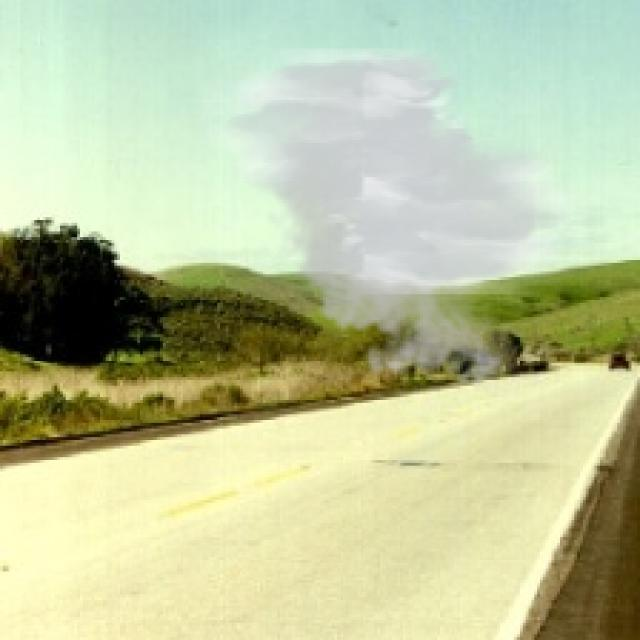Smoke: (202, 49, 588, 398)
